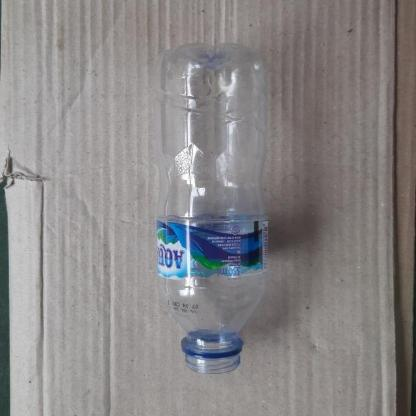Plastic Bottle: (154, 41, 268, 379)
